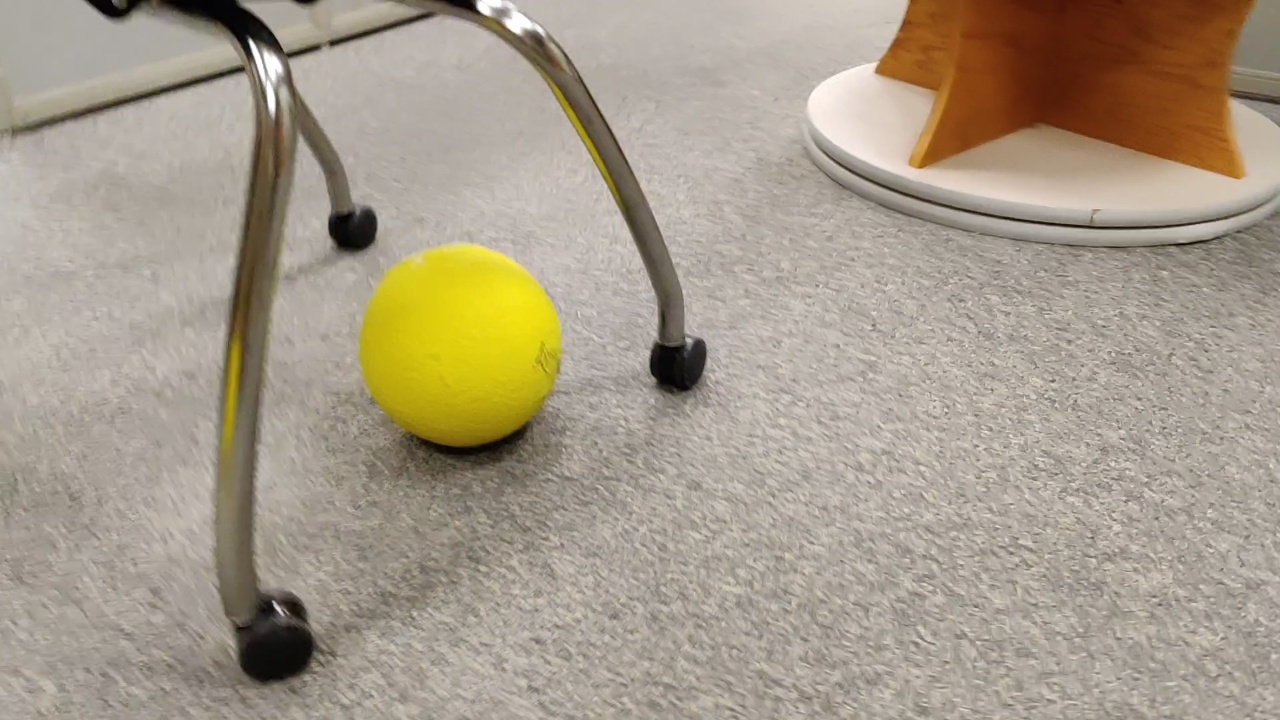Ball: (361, 243, 561, 448)
